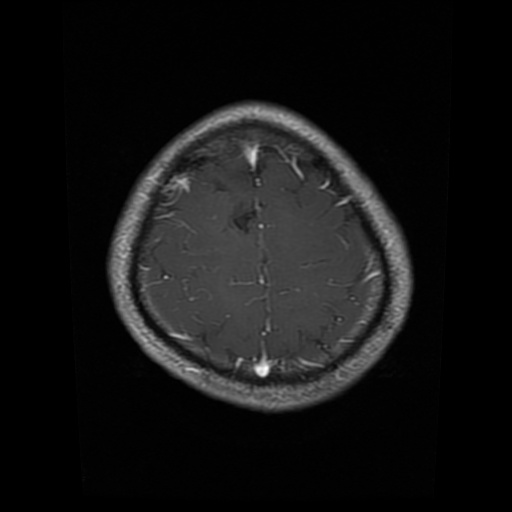glioma: (226, 198, 262, 232)
